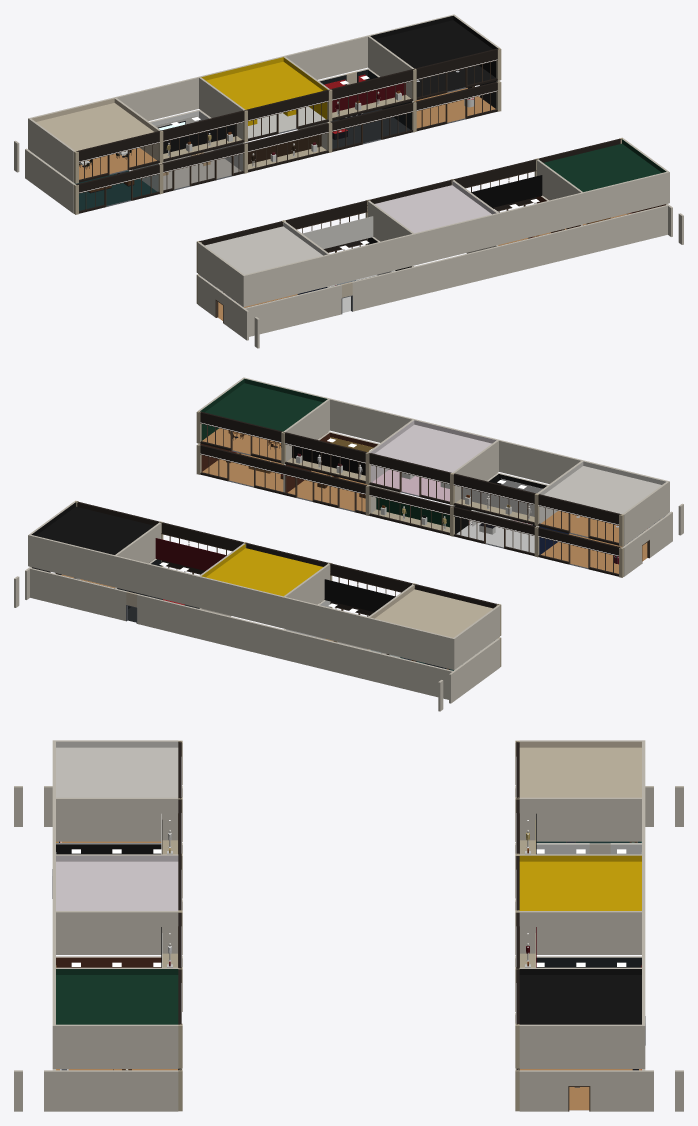
File: gl-shops.glb
3 views of the same model, one above another, from view 1: azimuth 30°, elevation 25°; view 2: azimuth 150°, elevation 25°; view 3: azimuth 270°, elevation 25° (orthographic). The views are drawn at different scales.
Visible parts, largest first — view 1: gl-shops; view 2: gl-shops; view 3: gl-shops.
Boxes of the visible parts, x1,y1,x2,y2 form: gl-shops: (14,14,683,348); gl-shops: (14,377,683,711); gl-shops: (14,740,683,1111).
Bounding box in the file's own units: 64.66 × 9 × 64.
